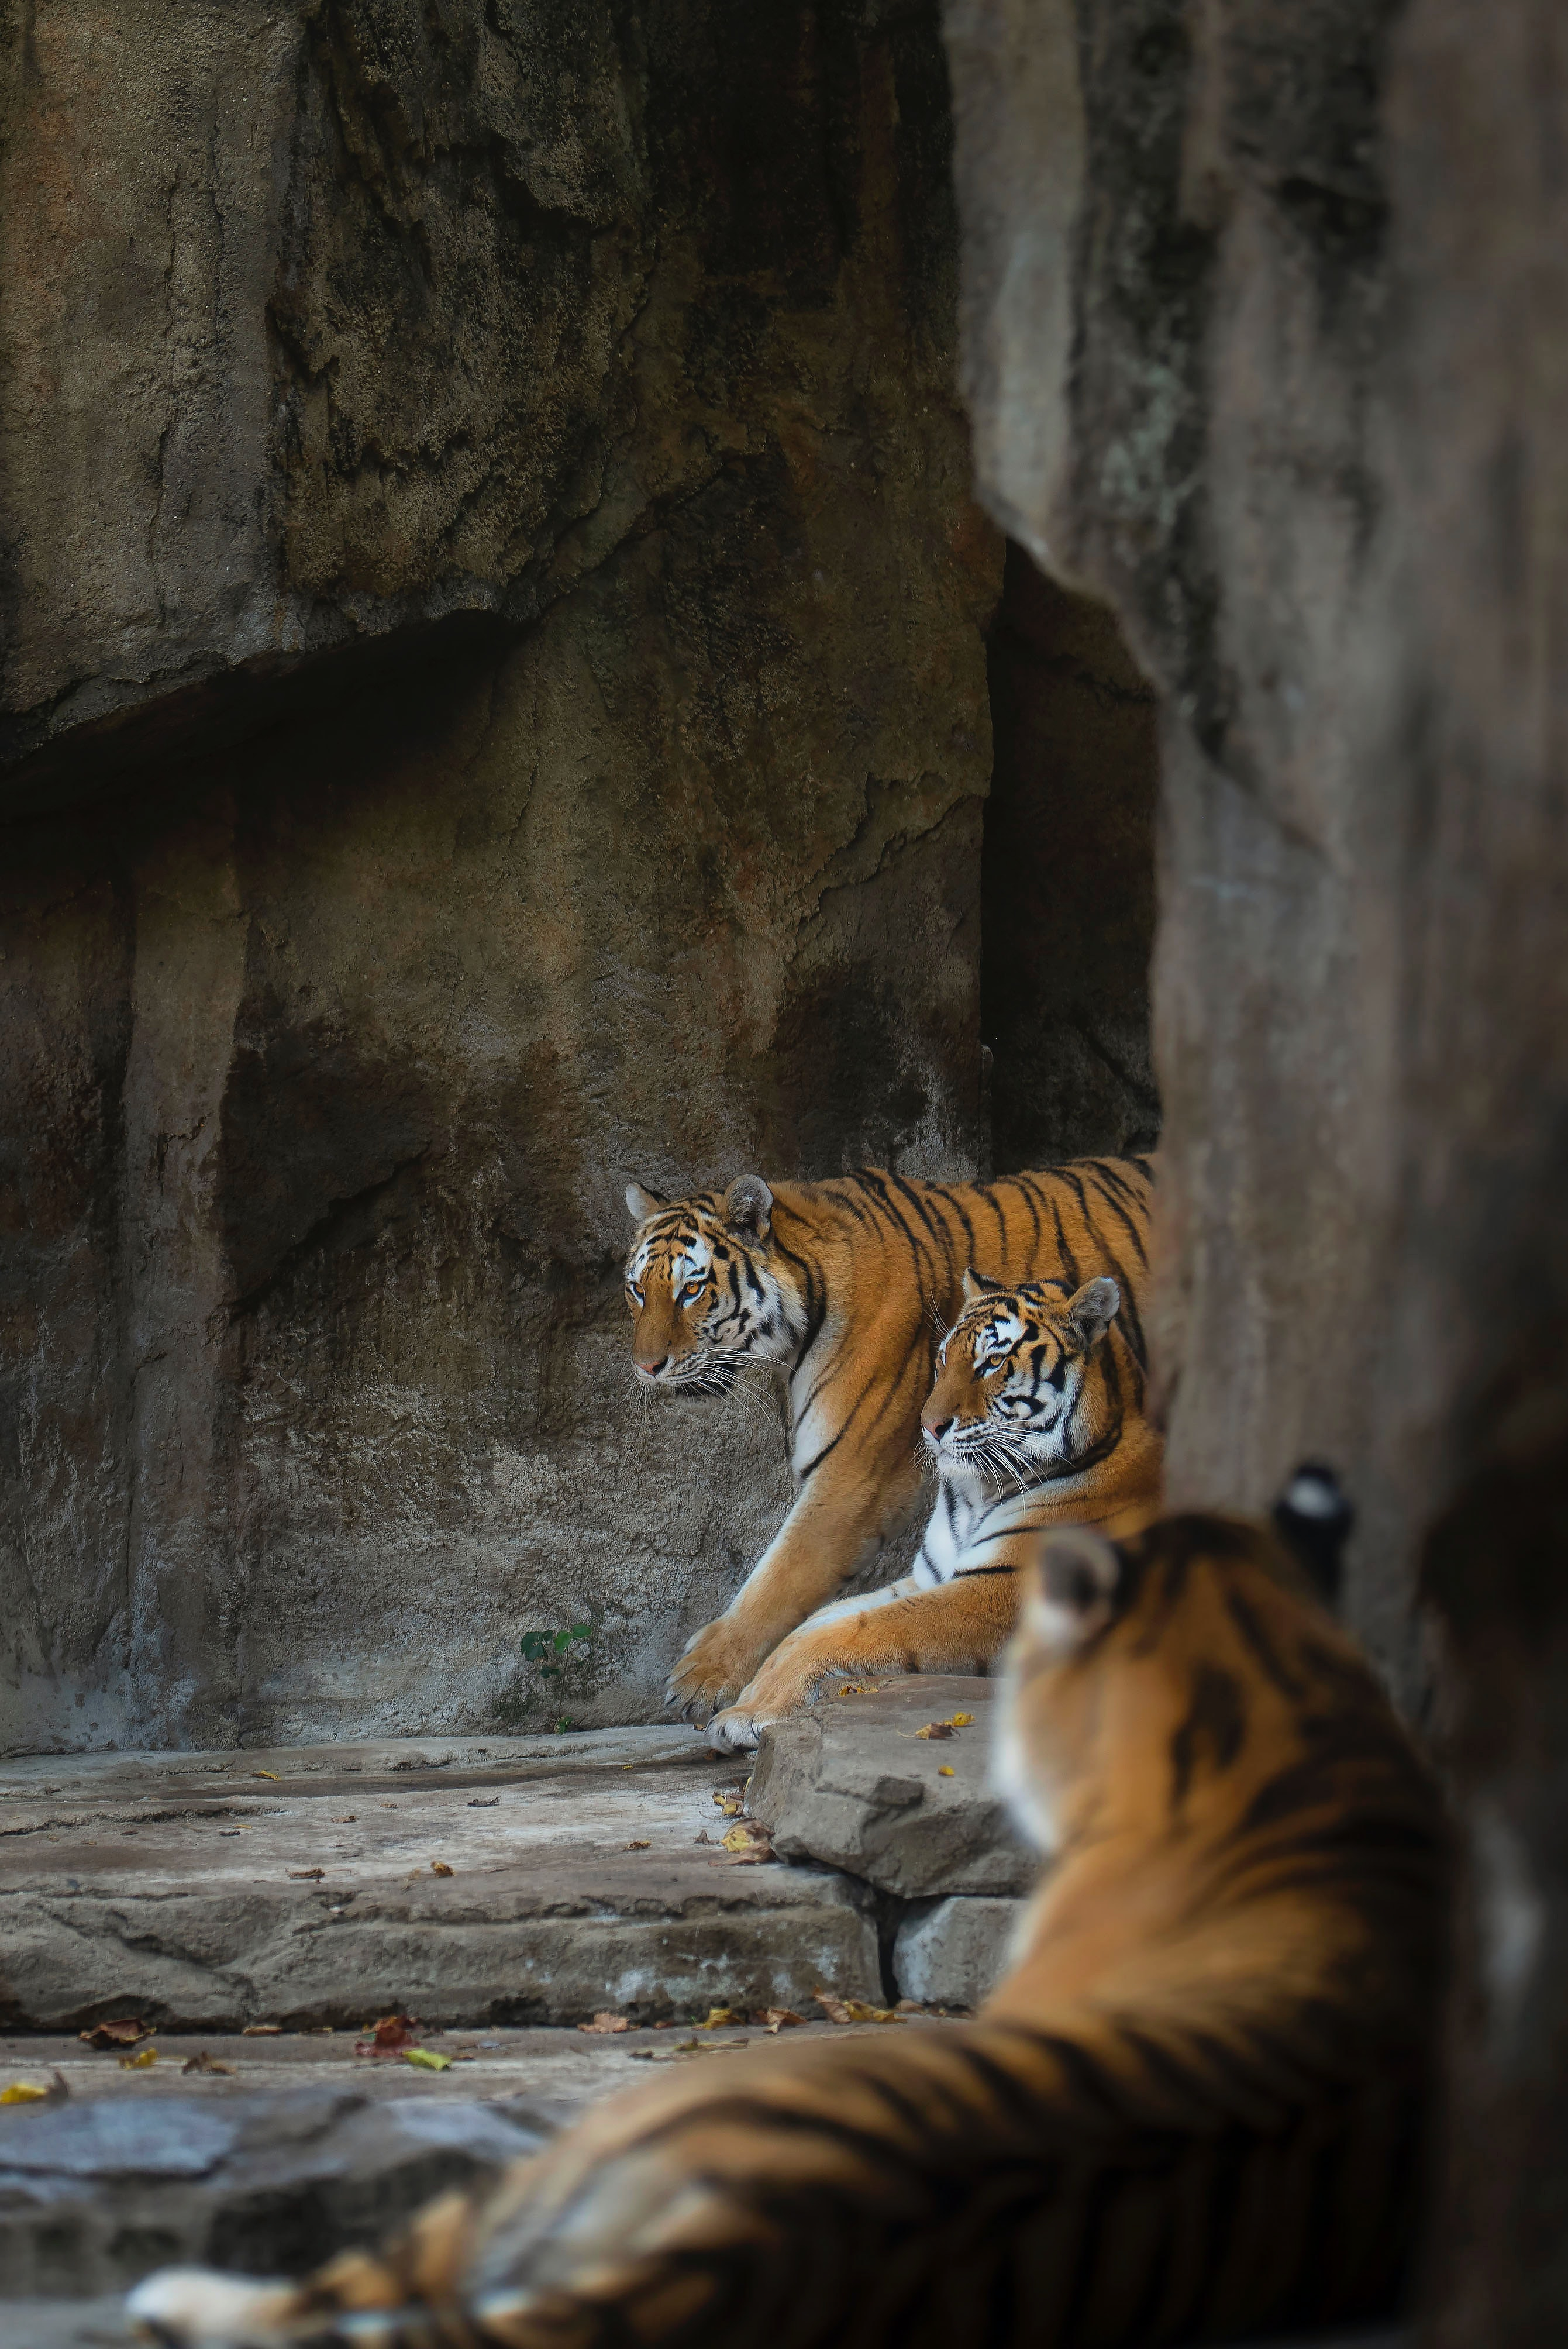tiger: (367, 1446, 1510, 2309), (584, 1152, 1277, 1572), (817, 1259, 1253, 1640)
